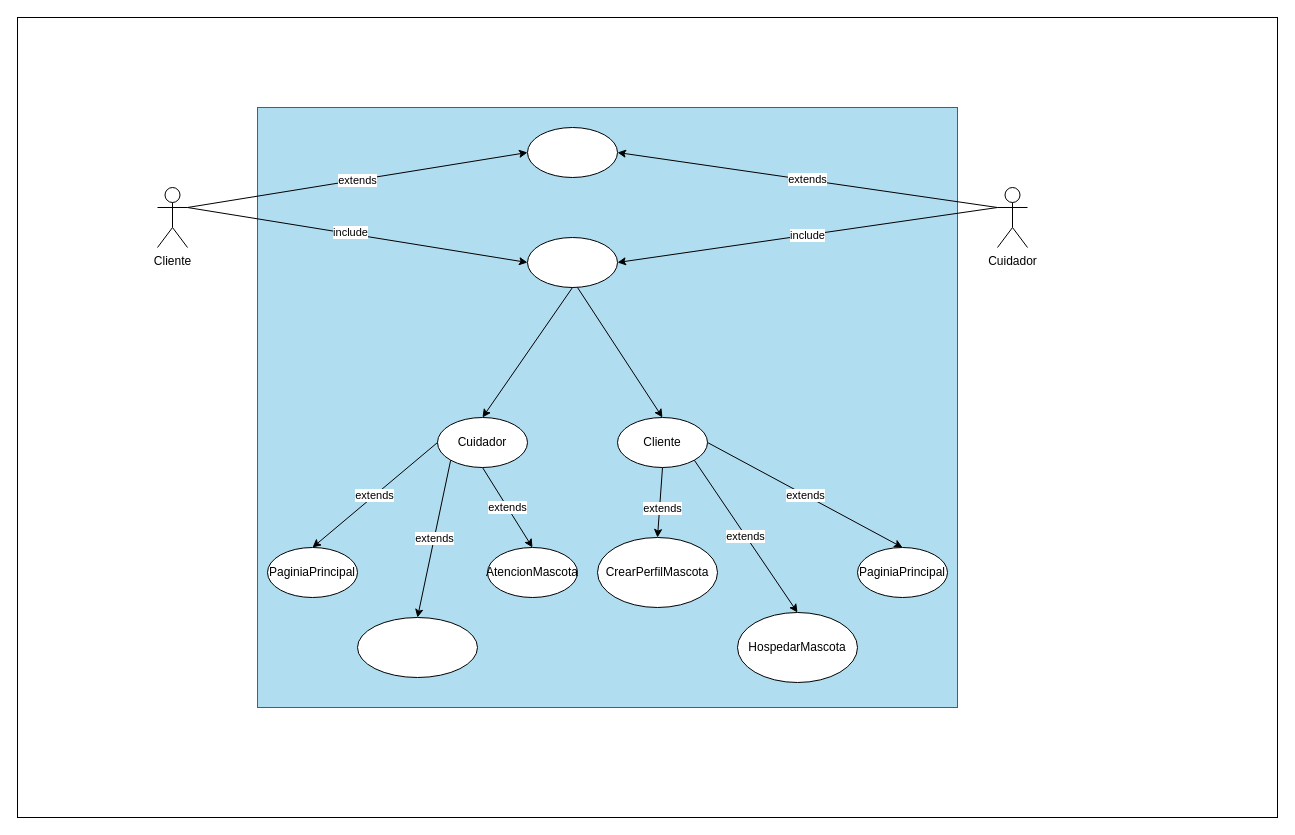
This 1295x835 diagram has some shape labels left out. The shapes that lost their labels are listed below. From the top down, each one's centre as x and y in pixels, then its label:
At point 572,152: "Registro".
At point 572,262: "Login".
At point 417,647: "SeleccionMascota".
